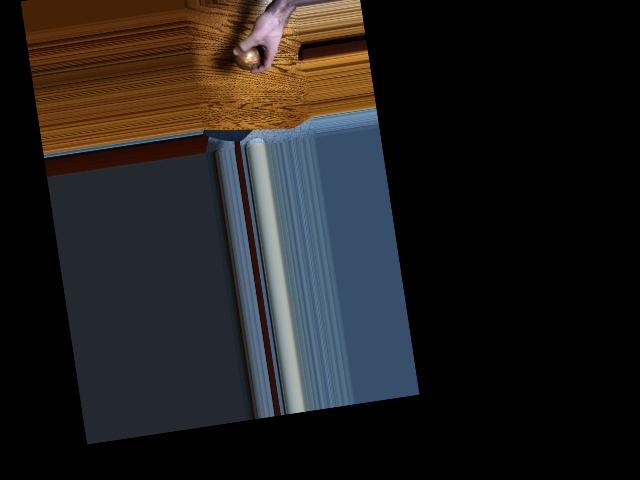onion: (233, 42, 261, 72)
